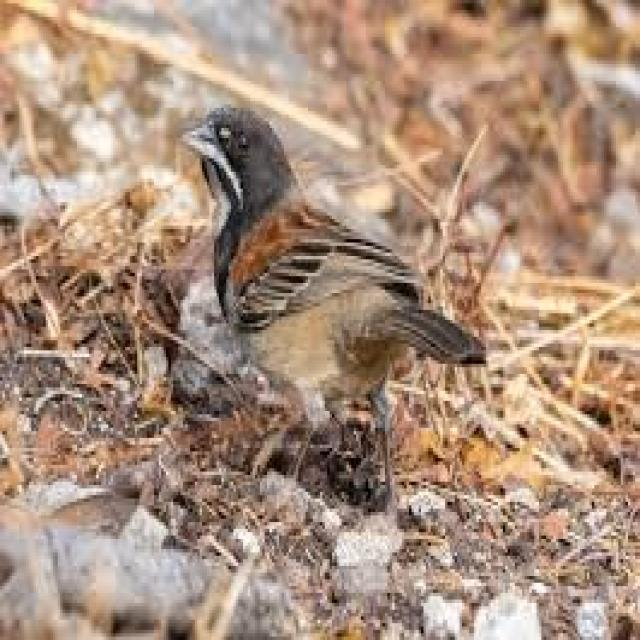bird: (183, 104, 483, 419)
